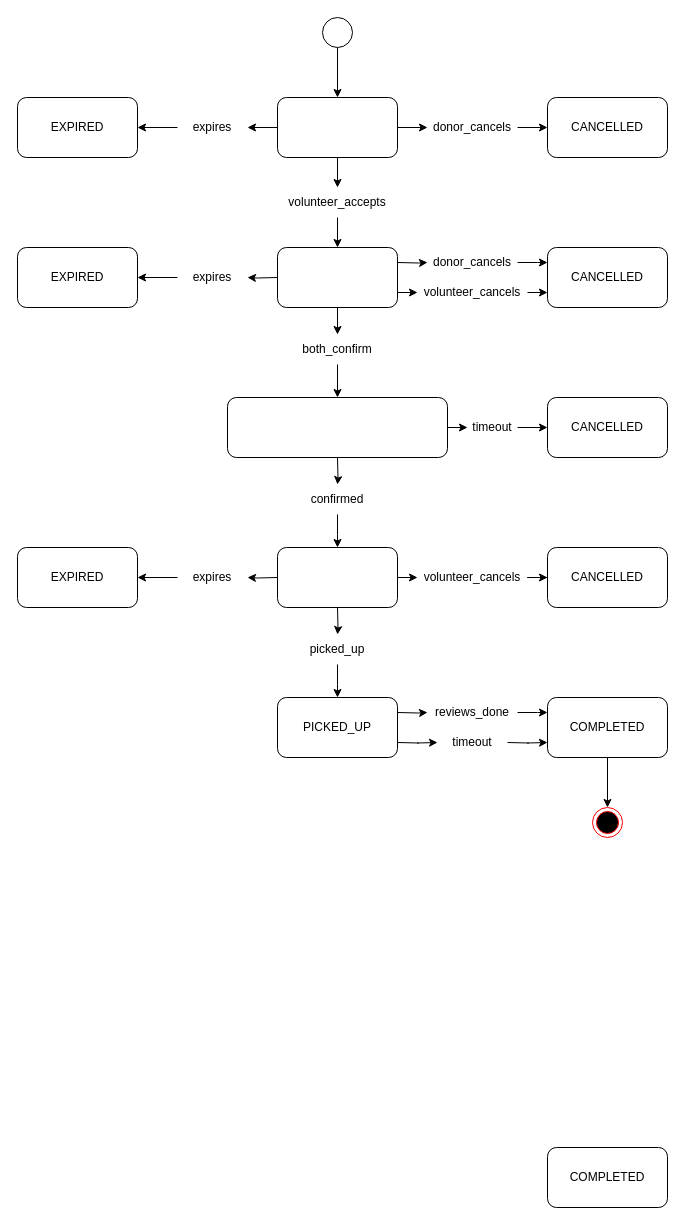
This 685x1225 diagram has some shape labels left out. The shapes that lost their labels are listed below. From the top down, each one's centre as x and y in pixels, then its label:
point 337,127: CREATED
point 337,277: ASSIGNED
point 337,427: AWAITING_PICKUP_CONFIRMATION
point 337,577: IN_PROGRESS
